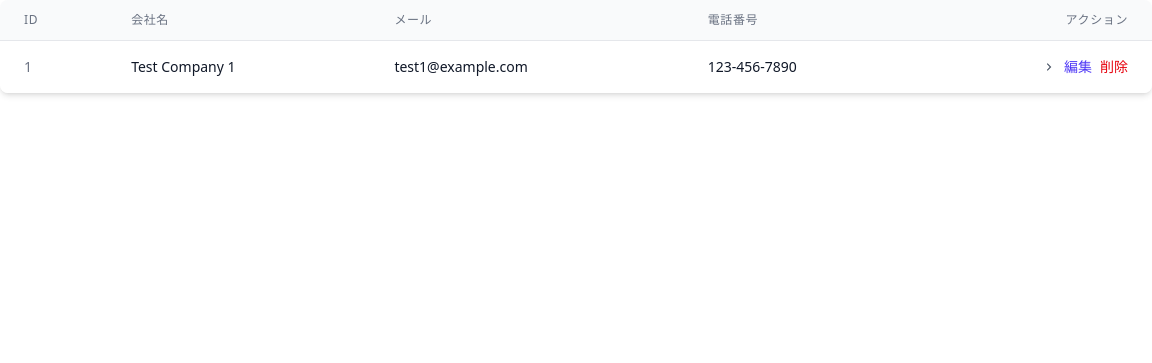
Test: CompanyList Component › should toggle expanded view when clicking the expand button
Expected: the text "会社詳細" is not shown
Click the 1st button at (1049, 67), box [1042, 60, 1056, 74]
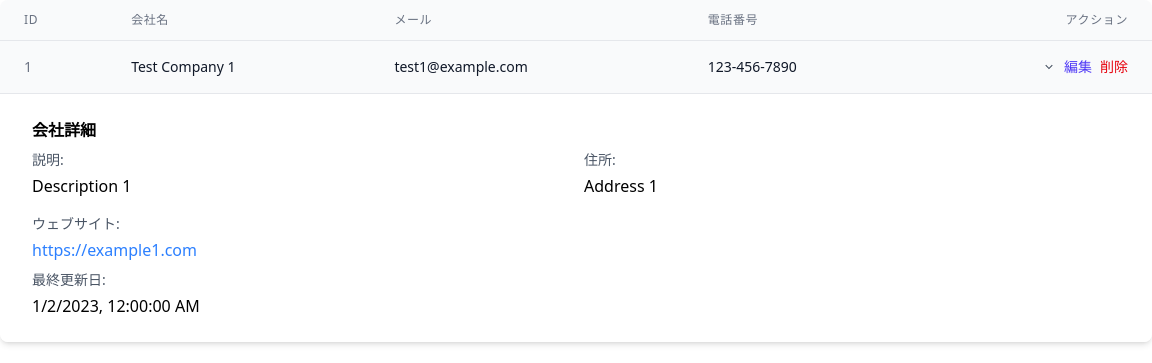
Expected: the heading "会社詳細" is shown, [32, 119, 96, 141]
Expected: the text "説明:" is shown, [32, 150, 64, 169]
Expected: the text "Description 1" is shown, [32, 175, 131, 197]
// Click again to collapse
Click the 1st button at (1049, 67), box [1042, 60, 1056, 74]
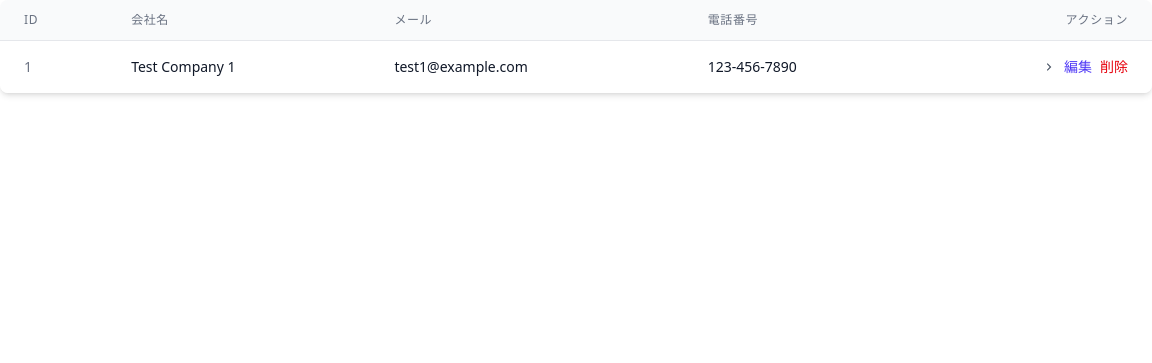
Expected: the heading "会社詳細" is gone
